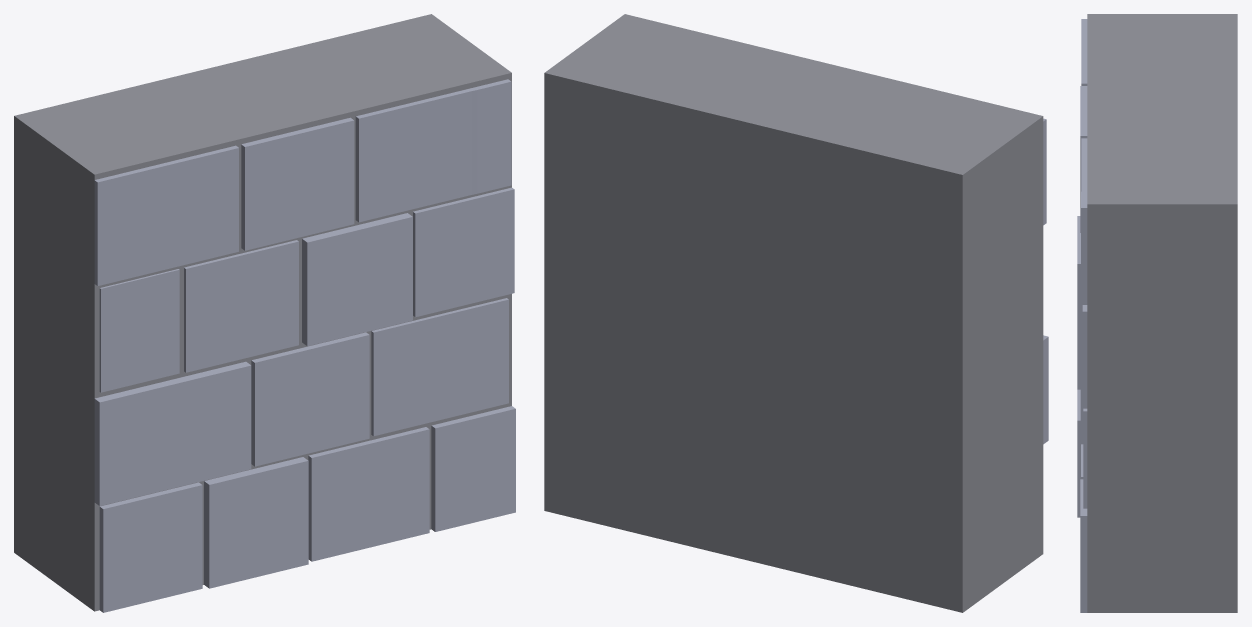
Rendered from BrickWall.fbx.
The picture shows the model from 3 angles, left to right: view 1: azimuth 30°, elevation 25°; view 2: azimuth 150°, elevation 25°; view 3: azimuth 270°, elevation 25°; orthographic projection. The views are drawn at different scales.
Parts seen in each view (by area): view 1: pCube1; view 2: pCube1; view 3: pCube1.
Part boxes in pixels (bbox=[...]): pCube1: bbox=[14, 14, 515, 612]; pCube1: bbox=[544, 14, 1048, 612]; pCube1: bbox=[1077, 14, 1237, 612].
Size of the model in its own units: 300 by 300 by 107.
